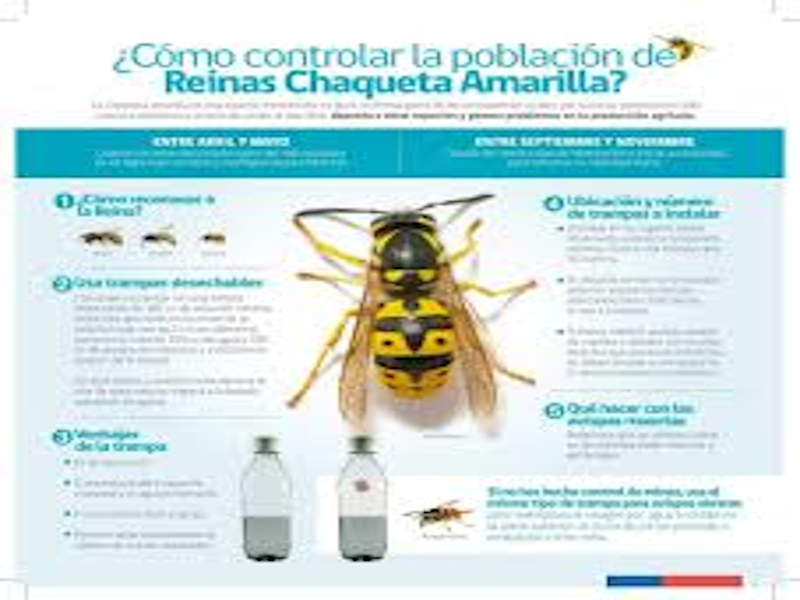chax: (275, 184, 543, 421)
